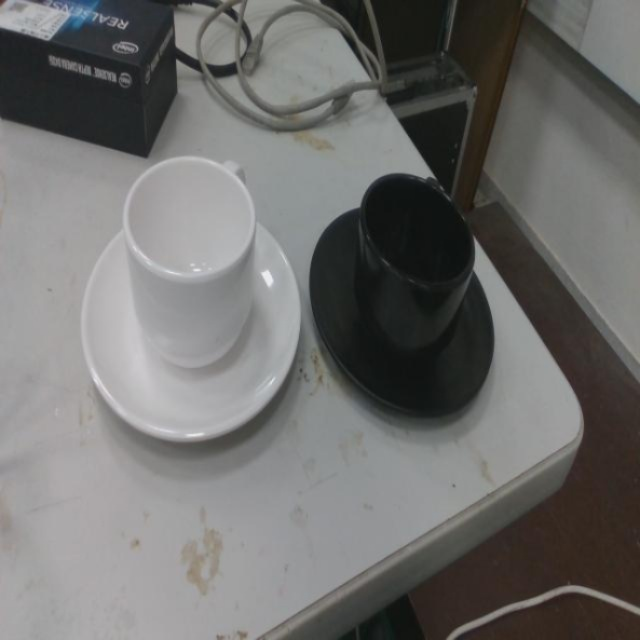black: (309, 170, 497, 427)
white: (77, 150, 305, 453)
